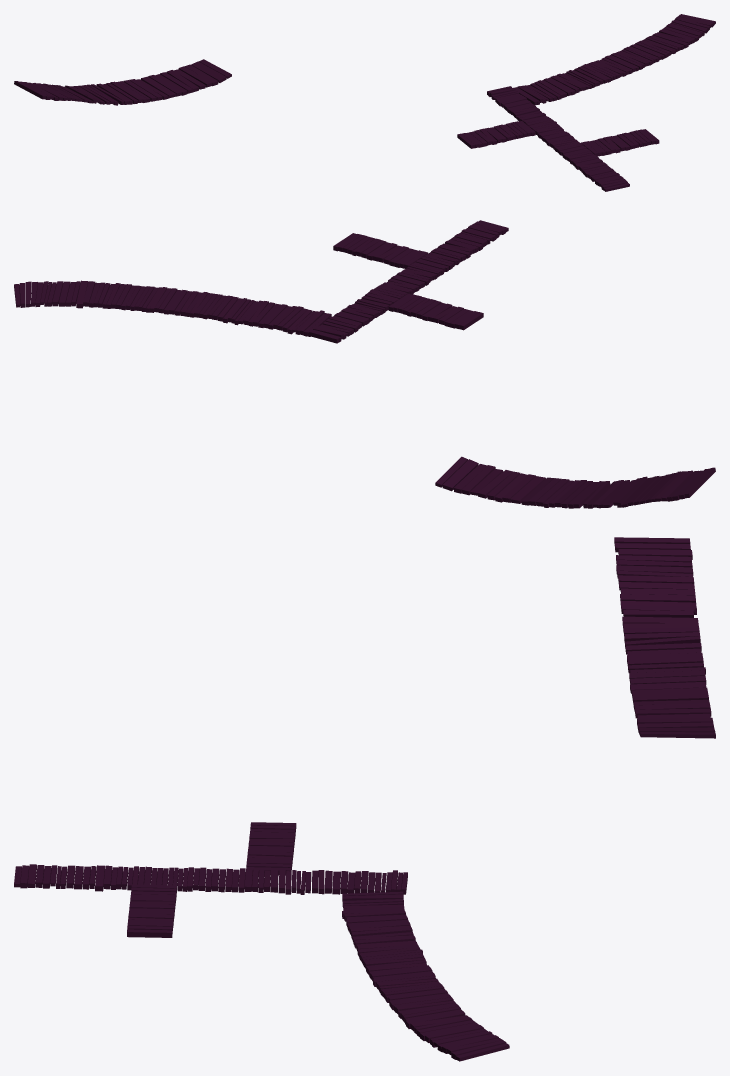
File: 4misc-wood.obj
The picture shows the model from 3 angles, top to bottom: view 1: azimuth 30°, elevation 25°; view 2: azimuth 150°, elevation 25°; view 3: azimuth 270°, elevation 25°; orthographic projection. The views are drawn at different scales.
Visible parts, largest first — view 1: Texture_set_magenta; view 2: Texture_set_magenta; view 3: Texture_set_magenta.
Part boxes in pixels (<box>): Texture_set_magenta: <box>14,14,715,191</box>; Texture_set_magenta: <box>14,220,715,508</box>; Texture_set_magenta: <box>14,537,715,1061</box>.
Bounding box in the file's own units: 111 × 7.4 × 71.21.
